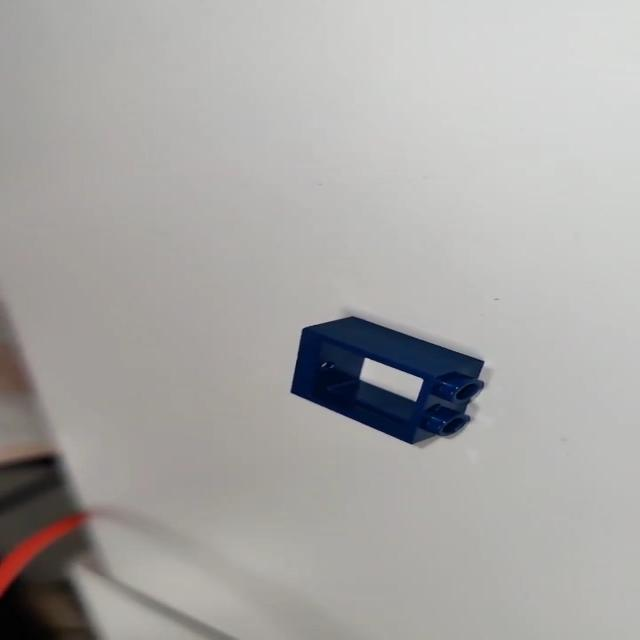W2x1x2: (287, 316, 489, 447)
